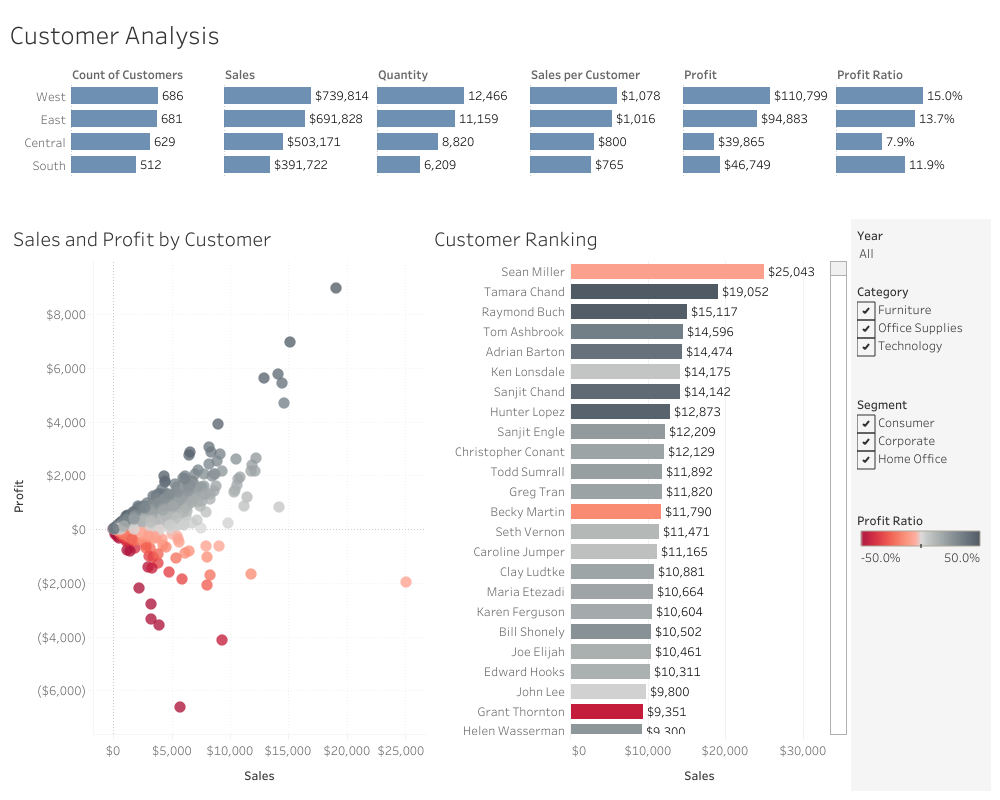

This screenshot's page, from the dashboard's own definition file:
{"tool":"tableau","page":{"name":"Customers","canvas":[1000,1000],"units":"permille","ordinal":1},"visuals":[{"type":"title","box":[7,9.5,986,65.7]},{"type":"worksheet","title":"CustomerOverview","mark":"Automatic","rows":["Region"],"box":[7,75.2,986,148.6]},{"type":"worksheet","title":"CustomerScatter","mark":"Automatic","rows":["Profit"],"cols":["Sales"],"box":[7,224,440,766.5]},{"type":"worksheet","title":"CustomerRank","mark":"Automatic","rows":["Customer Name"],"cols":["Sales"],"box":[447,224,439,766.5]},{"type":"filter","title":"CustomerScatter","param":"[federated.10nnk8d1vgmw8q17yu76u06pnbcj].[yr:Order Date:ok]","box":[893.8,234.6,91.2,70.2]},{"type":"filter","title":"CustomerScatter","param":"[federated.10nnk8d1vgmw8q17yu76u06pnbcj].[none:Category:nk]","box":[893.8,304.8,91.2,145.8]},{"type":"filter","title":"CustomerScatter","param":"[federated.10nnk8d1vgmw8q17yu76u06pnbcj].[none:Segment:nk]","box":[893.8,450.5,91.2,145.8]},{"type":"legend","title":"CustomerScatter","param":"[federated.10nnk8d1vgmw8q17yu76u06pnbcj].[usr:Calculation_9921103144103743:qk]","box":[893.8,596.2,91.2,87.7]}]}

Visuals, with their boxes on the dashboard's canvas, which has no fixed pixel size, in thousandths of its width and height (x1, y1, x2, y2). These are canvas units, not pixel positions in the 1000x800 screenshot, which may show the page scaled, cropped or inside an application window:
title: 7/10/993/75
"CustomerOverview" worksheet: 7/75/993/224
"CustomerScatter" worksheet: 7/224/447/990
"CustomerRank" worksheet: 447/224/886/990
"CustomerScatter" filter: 894/235/985/305
"CustomerScatter" filter: 894/305/985/451
"CustomerScatter" filter: 894/450/985/596
"CustomerScatter" legend: 894/596/985/684
